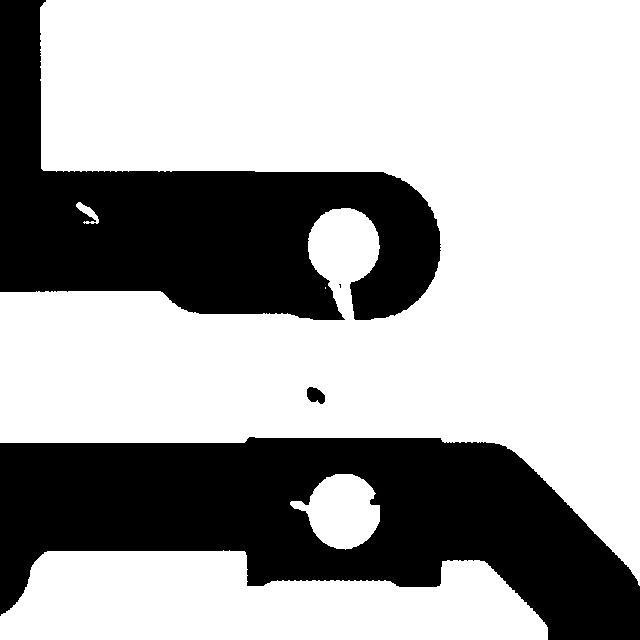copper: (297, 377, 334, 413)
mousebite: (280, 491, 322, 523)
open: (318, 270, 364, 334)
pin-hole: (66, 192, 108, 233)
spur: (360, 484, 394, 515)
